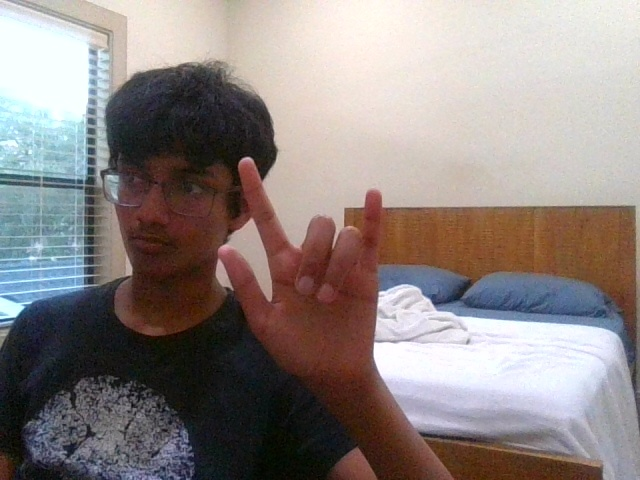ly: (218, 156, 382, 379)
